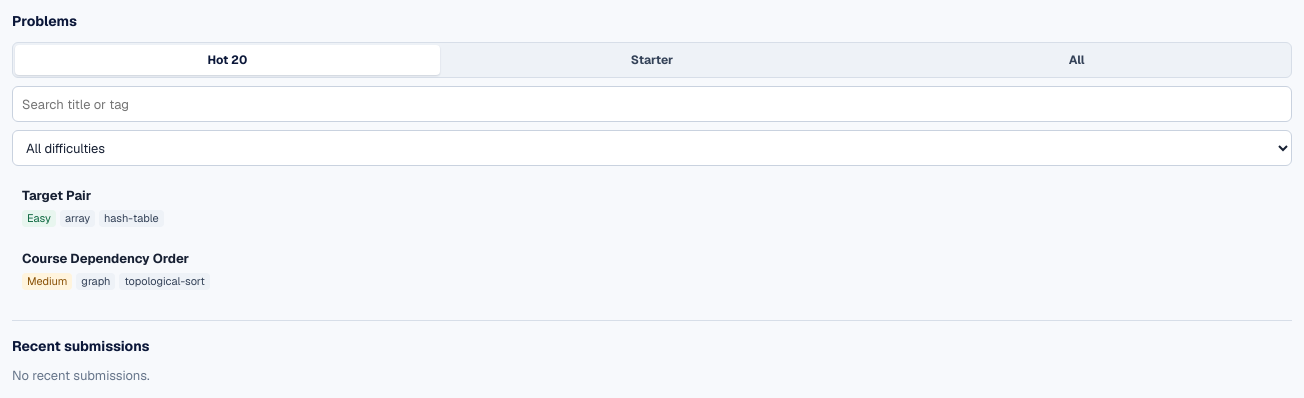
Scenario: ProblemRail › searches titles and tags case-insensitively
Type "GRAPH" into the search field named "Search problems" at (652, 104), box 12,86 -> 1292,122
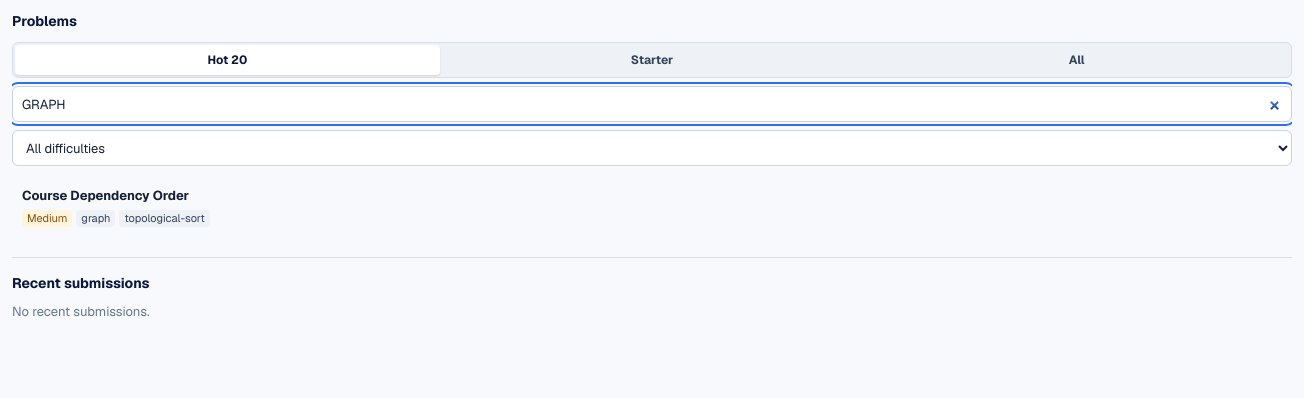
Expected: the link "Course Dependency Order" is shown, 22,187 -> 210,227
Expected: the link "Target Pair" is gone
